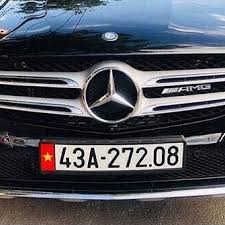Car number plates: (55, 144, 184, 169)
